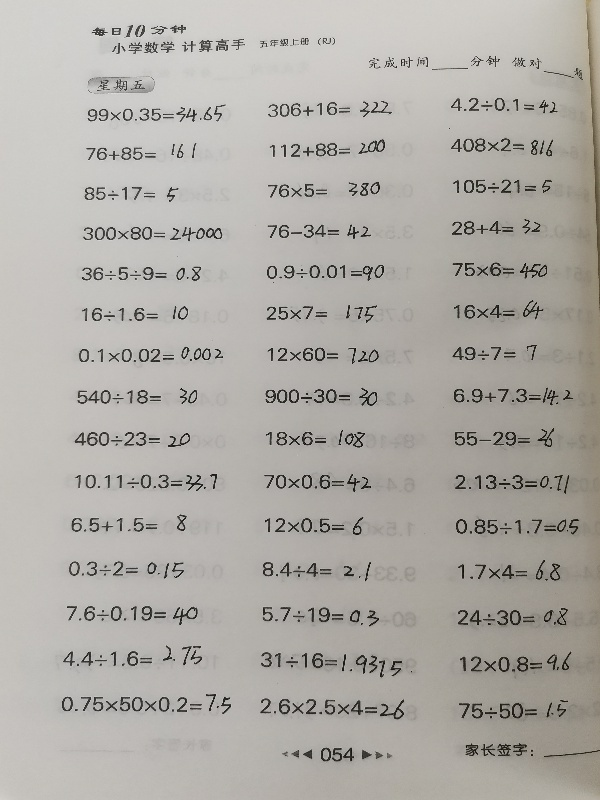equation: (57, 688, 234, 716), (257, 648, 417, 677), (256, 695, 407, 722), (59, 642, 205, 669), (80, 136, 208, 165), (84, 101, 229, 126), (70, 470, 220, 494), (63, 601, 201, 627), (443, 130, 557, 161), (74, 343, 226, 366), (74, 386, 205, 412), (456, 649, 576, 677), (452, 471, 573, 498), (262, 260, 387, 286), (263, 177, 388, 203), (79, 223, 226, 245), (263, 299, 380, 326), (452, 515, 583, 539), (264, 97, 395, 121), (262, 384, 382, 410), (258, 602, 382, 627), (68, 512, 196, 536), (455, 557, 564, 585), (450, 385, 577, 409), (455, 604, 572, 630), (79, 301, 196, 327), (258, 558, 374, 584), (64, 558, 187, 582), (455, 697, 571, 722), (260, 471, 375, 496), (264, 344, 383, 368), (70, 427, 194, 450), (265, 138, 388, 161), (78, 262, 205, 284), (451, 425, 558, 451), (261, 425, 368, 450), (262, 514, 367, 539), (451, 297, 548, 323), (447, 93, 561, 115), (449, 258, 551, 282), (264, 221, 375, 243), (450, 176, 556, 198), (80, 182, 181, 205), (448, 339, 543, 363), (448, 215, 544, 238)
